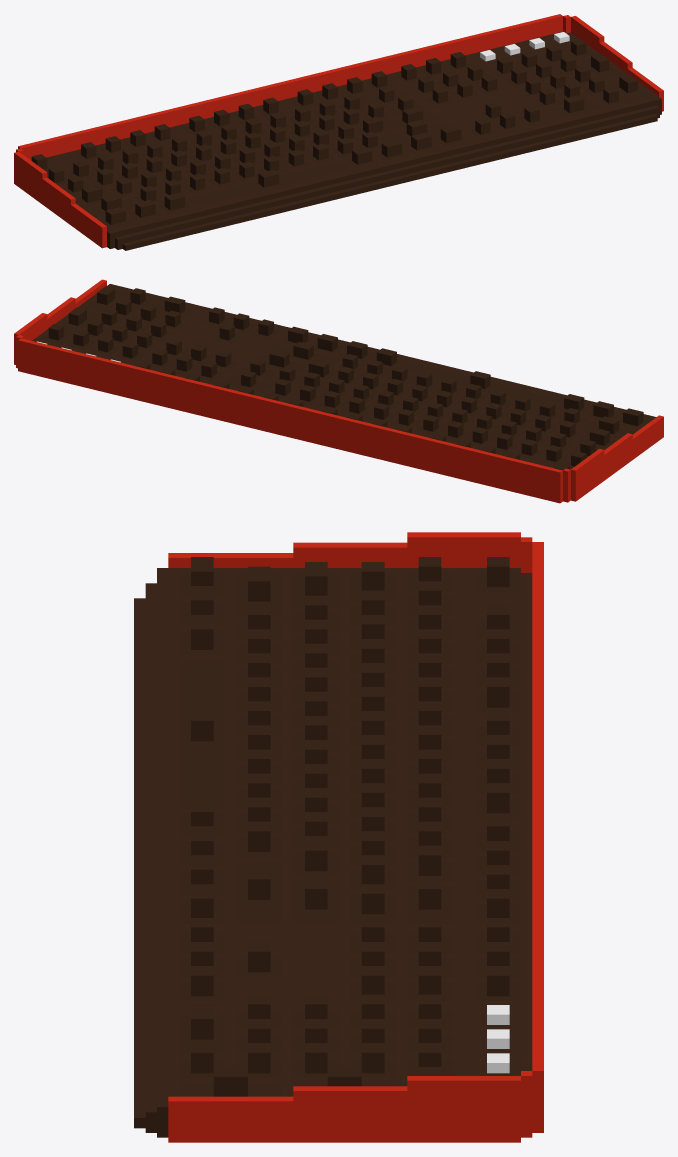
File: KeyBoard_Dirty.obj
3 views of the same model, one above another, from view 1: azimuth 30°, elevation 25°; view 2: azimuth 150°, elevation 25°; view 3: azimuth 270°, elevation 25° (orthographic). The views are drawn at different scales.
Visible parts, largest first — view 1: KeyBoard_Dirty; view 2: KeyBoard_Dirty; view 3: KeyBoard_Dirty.
Boxes of the visible parts, x1=… form: KeyBoard_Dirty: x1=14, y1=14, x2=663, y2=250; KeyBoard_Dirty: x1=14, y1=279, x2=663, y2=503; KeyBoard_Dirty: x1=134, y1=532, x2=543, y2=1142.
Bounding box in the file's own units: 114 × 6 × 36.
Materials: 1 (1 with a texture image).
